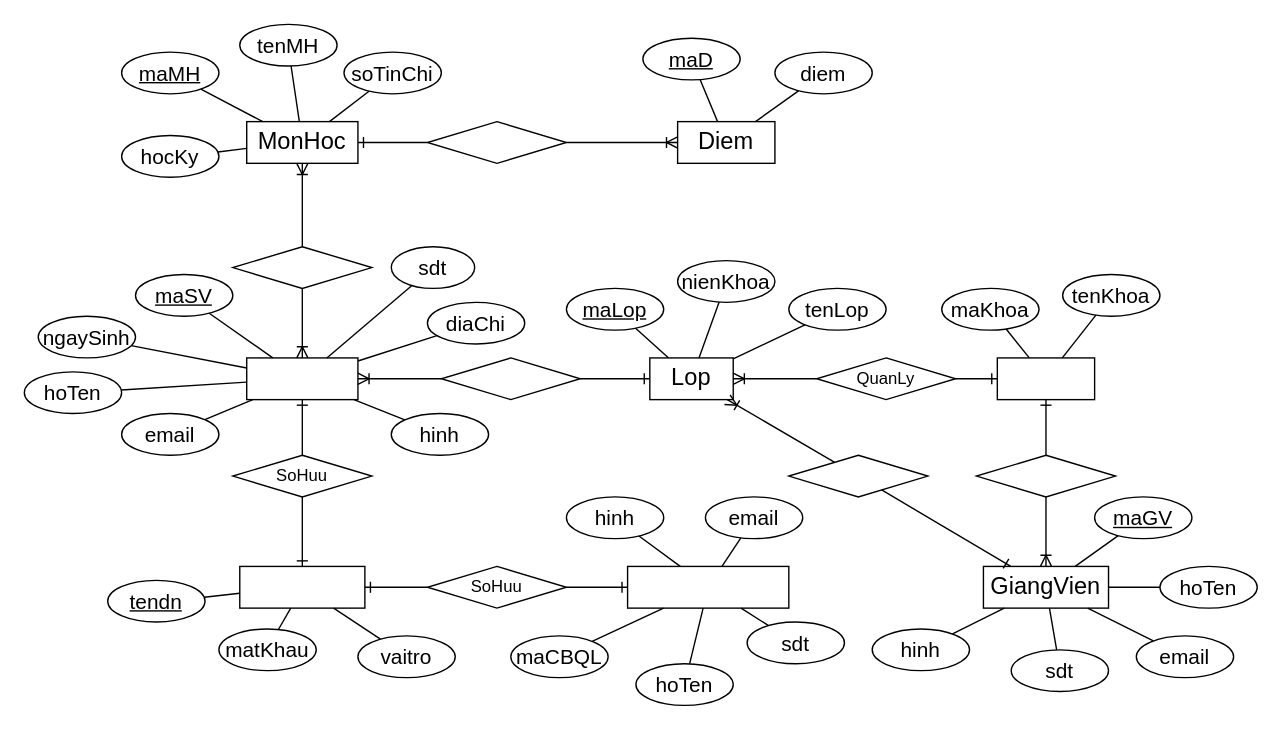
Image size: 1282x730. Some labels were removed from this diagram. Each missing label, with the centre of its shape:
CanBoQuanLy: point 707,586
ChuNhiem: point 857,475
Co: point 510,378
CoDiem: point 301,266
CuaMon: point 496,141
Khoa: point 1045,378
SinhVien: point 301,378
TaiKhoan: point 301,586
Thuoc: point 1045,475
